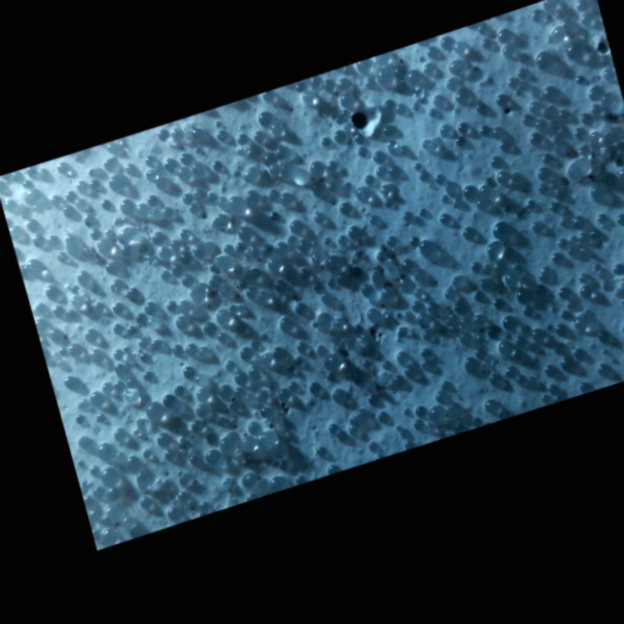GrassBeadSeg: (30, 12, 584, 448), (55, 72, 611, 448), (89, 12, 562, 404), (126, 49, 553, 468), (107, 26, 486, 491), (163, 41, 584, 458), (75, 100, 602, 422), (139, 125, 584, 506), (238, 11, 593, 447), (73, 100, 419, 510), (160, 51, 581, 376), (142, 152, 554, 481), (63, 42, 491, 357), (112, 141, 512, 476), (165, 76, 509, 450), (105, 159, 483, 496), (124, 164, 533, 465), (245, 22, 486, 499), (336, 0, 588, 441), (27, 52, 609, 242), (223, 82, 604, 369), (188, 125, 504, 463), (299, 88, 591, 446), (20, 177, 461, 414), (190, 125, 586, 388), (109, 211, 608, 419), (192, 210, 623, 431), (112, 127, 414, 441), (315, 83, 557, 455), (115, 38, 467, 292), (156, 126, 561, 337), (240, 263, 623, 486), (317, 35, 517, 455), (203, 134, 609, 339), (76, 267, 429, 501), (160, 205, 568, 405), (44, 181, 606, 326), (296, 26, 512, 402), (327, 141, 568, 473), (8, 224, 449, 401), (106, 191, 494, 390), (158, 207, 561, 397), (198, 150, 565, 358), (188, 246, 579, 440), (332, 18, 574, 327), (155, 173, 571, 348), (31, 236, 574, 369), (63, 128, 345, 384), (251, 40, 455, 392), (259, 88, 546, 338), (329, 84, 590, 357), (216, 208, 590, 397), (51, 203, 487, 363), (345, 0, 557, 323), (212, 120, 591, 295), (67, 138, 330, 390), (179, 142, 484, 356), (293, 144, 485, 483), (25, 80, 458, 230), (114, 191, 434, 390), (44, 112, 273, 381), (211, 158, 623, 307), (102, 264, 551, 400), (104, 118, 623, 235), (96, 239, 428, 419), (231, 134, 608, 292), (46, 97, 444, 243), (169, 305, 438, 518), (189, 159, 399, 428), (170, 261, 487, 434), (360, 110, 593, 340), (176, 261, 623, 378), (177, 164, 570, 295), (172, 248, 415, 454), (56, 120, 281, 339), (293, 81, 589, 241), (234, 55, 370, 391), (352, 102, 482, 451), (183, 284, 457, 449), (373, 53, 526, 345), (32, 232, 334, 379), (88, 177, 250, 450), (57, 249, 566, 334), (161, 211, 501, 338), (55, 159, 504, 255), (181, 75, 518, 200), (428, 129, 573, 419), (144, 167, 492, 286), (266, 36, 526, 195), (34, 316, 588, 390), (217, 203, 456, 372), (216, 185, 578, 295), (191, 50, 387, 253), (375, 43, 566, 245), (166, 362, 418, 515), (242, 52, 542, 180), (55, 250, 471, 342), (12, 165, 121, 516), (478, 7, 584, 358), (233, 60, 435, 243), (363, 184, 556, 374), (138, 311, 430, 431), (112, 212, 453, 313), (28, 263, 423, 349), (183, 168, 362, 355), (176, 322, 366, 498), (25, 132, 503, 201), (170, 126, 622, 198), (100, 197, 305, 352), (73, 356, 563, 419), (84, 302, 299, 443), (311, 75, 494, 235), (453, 123, 597, 325), (175, 165, 426, 278), (276, 268, 492, 399), (235, 41, 517, 141), (406, 180, 549, 377), (356, 90, 557, 228), (277, 42, 438, 204), (299, 280, 500, 407), (206, 189, 466, 287), (195, 291, 421, 400), (108, 206, 269, 353), (137, 334, 286, 490), (89, 227, 210, 416), (179, 235, 408, 334), (129, 212, 278, 360), (179, 253, 499, 320), (238, 135, 309, 433), (323, 284, 572, 368), (431, 91, 530, 302), (89, 357, 272, 471), (233, 158, 324, 384), (320, 77, 507, 182), (327, 339, 525, 434), (146, 107, 347, 198), (293, 91, 354, 385), (401, 7, 563, 116), (496, 55, 552, 355), (194, 354, 478, 413), (266, 237, 435, 336), (367, 345, 586, 421), (58, 136, 514, 172), (119, 134, 331, 211), (90, 305, 381, 361), (194, 216, 583, 257), (143, 127, 226, 313), (542, 213, 623, 396), (438, 33, 510, 237), (79, 383, 207, 495), (395, 101, 549, 193), (399, 57, 465, 263), (308, 218, 544, 272), (77, 337, 164, 483), (521, 111, 591, 288), (433, 196, 488, 419), (253, 67, 422, 139), (97, 222, 148, 456), (227, 302, 369, 380), (26, 200, 198, 264), (278, 166, 385, 265), (112, 178, 338, 223), (61, 144, 200, 215), (156, 406, 277, 486), (53, 193, 122, 332), (330, 224, 533, 271), (474, 104, 563, 210), (390, 287, 484, 387), (353, 162, 592, 200), (545, 212, 623, 328), (271, 272, 369, 362), (409, 233, 589, 281), (118, 186, 216, 270), (255, 406, 459, 446), (324, 147, 388, 269), (489, 53, 550, 178), (155, 320, 216, 444), (474, 99, 498, 413), (513, 282, 586, 385), (363, 136, 429, 247), (76, 350, 136, 466), (295, 199, 352, 315), (244, 135, 342, 202), (145, 362, 262, 417), (350, 285, 463, 341), (334, 53, 423, 124), (246, 124, 391, 167), (58, 345, 184, 393), (220, 308, 415, 339), (83, 448, 148, 536), (454, 85, 511, 182), (548, 68, 613, 153), (104, 258, 163, 350), (517, 65, 616, 116), (81, 388, 149, 462), (147, 223, 223, 287), (108, 179, 170, 257), (384, 65, 451, 136), (422, 393, 548, 430), (330, 188, 383, 274), (82, 157, 127, 253), (237, 108, 270, 236), (381, 375, 461, 427), (412, 160, 439, 311), (50, 167, 126, 220), (35, 196, 62, 339), (342, 76, 383, 169), (142, 467, 229, 508), (223, 229, 248, 371), (427, 246, 519, 284), (255, 199, 318, 254), (73, 305, 135, 358), (375, 369, 416, 448), (58, 321, 141, 360), (487, 299, 523, 383), (216, 161, 280, 208), (219, 215, 255, 296), (389, 163, 476, 196), (103, 469, 144, 538), (121, 236, 165, 297), (50, 292, 85, 364), (219, 379, 275, 423), (335, 309, 390, 351), (178, 297, 226, 341), (173, 313, 295, 330), (261, 277, 282, 363), (383, 179, 451, 205), (262, 404, 285, 468), (418, 169, 472, 193), (391, 355, 436, 383), (333, 110, 364, 143), (216, 406, 266, 424), (259, 235, 307, 253), (334, 113, 362, 141), (396, 404, 425, 428), (266, 254, 286, 287), (64, 178, 82, 214), (218, 194, 242, 221), (228, 398, 235, 487), (209, 253, 226, 284), (217, 430, 238, 452), (309, 74, 347, 85), (310, 252, 321, 289), (231, 388, 254, 404), (119, 226, 131, 255), (126, 452, 140, 470), (235, 391, 249, 408), (327, 271, 344, 285), (214, 210, 224, 221), (479, 183, 489, 193)
